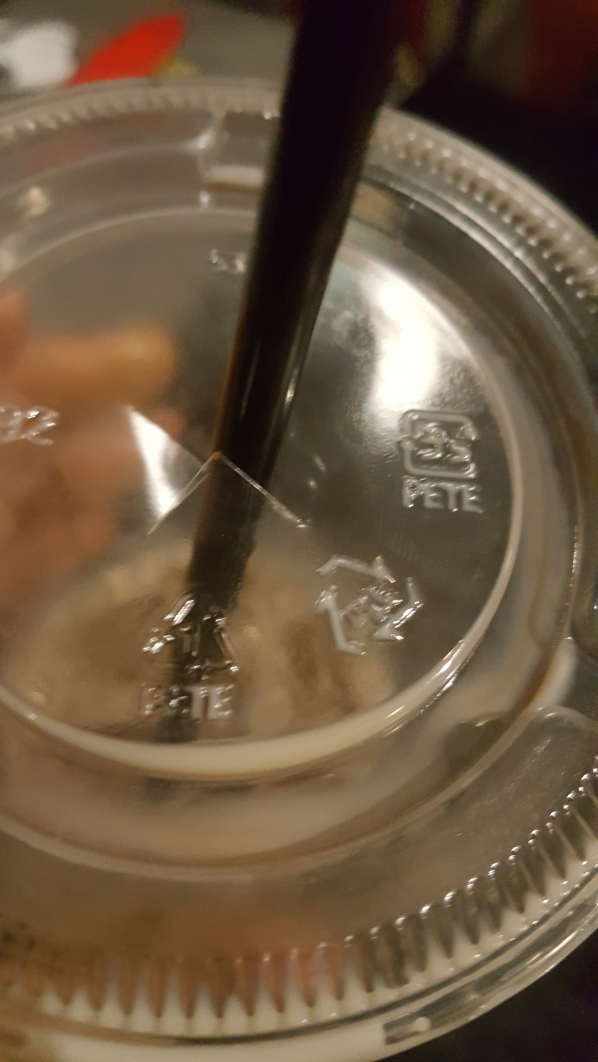recycle: (128, 584, 247, 729)
